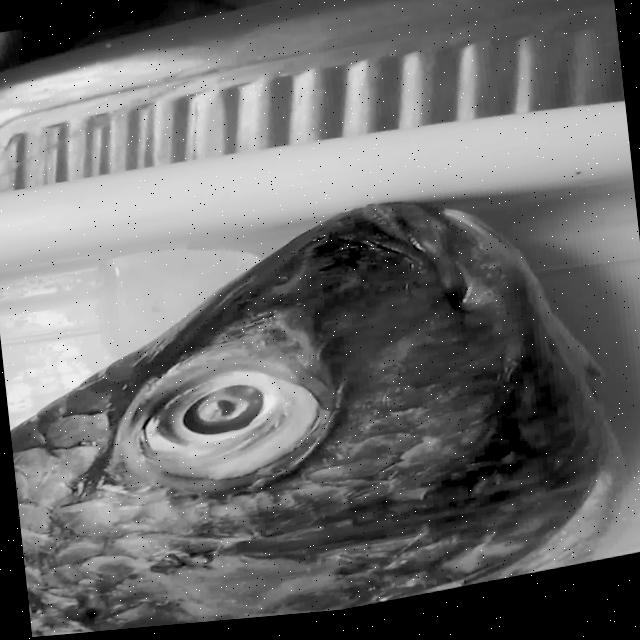Fresh: (82, 329, 356, 511)
